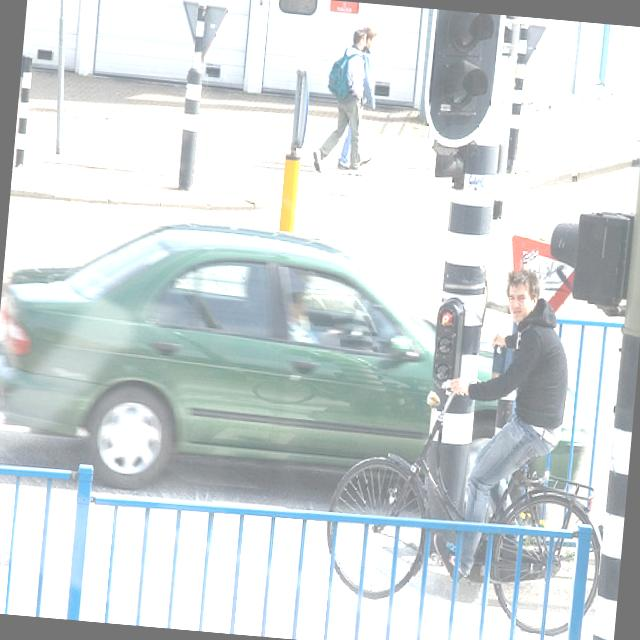Vehicle: (0, 212, 444, 508)
